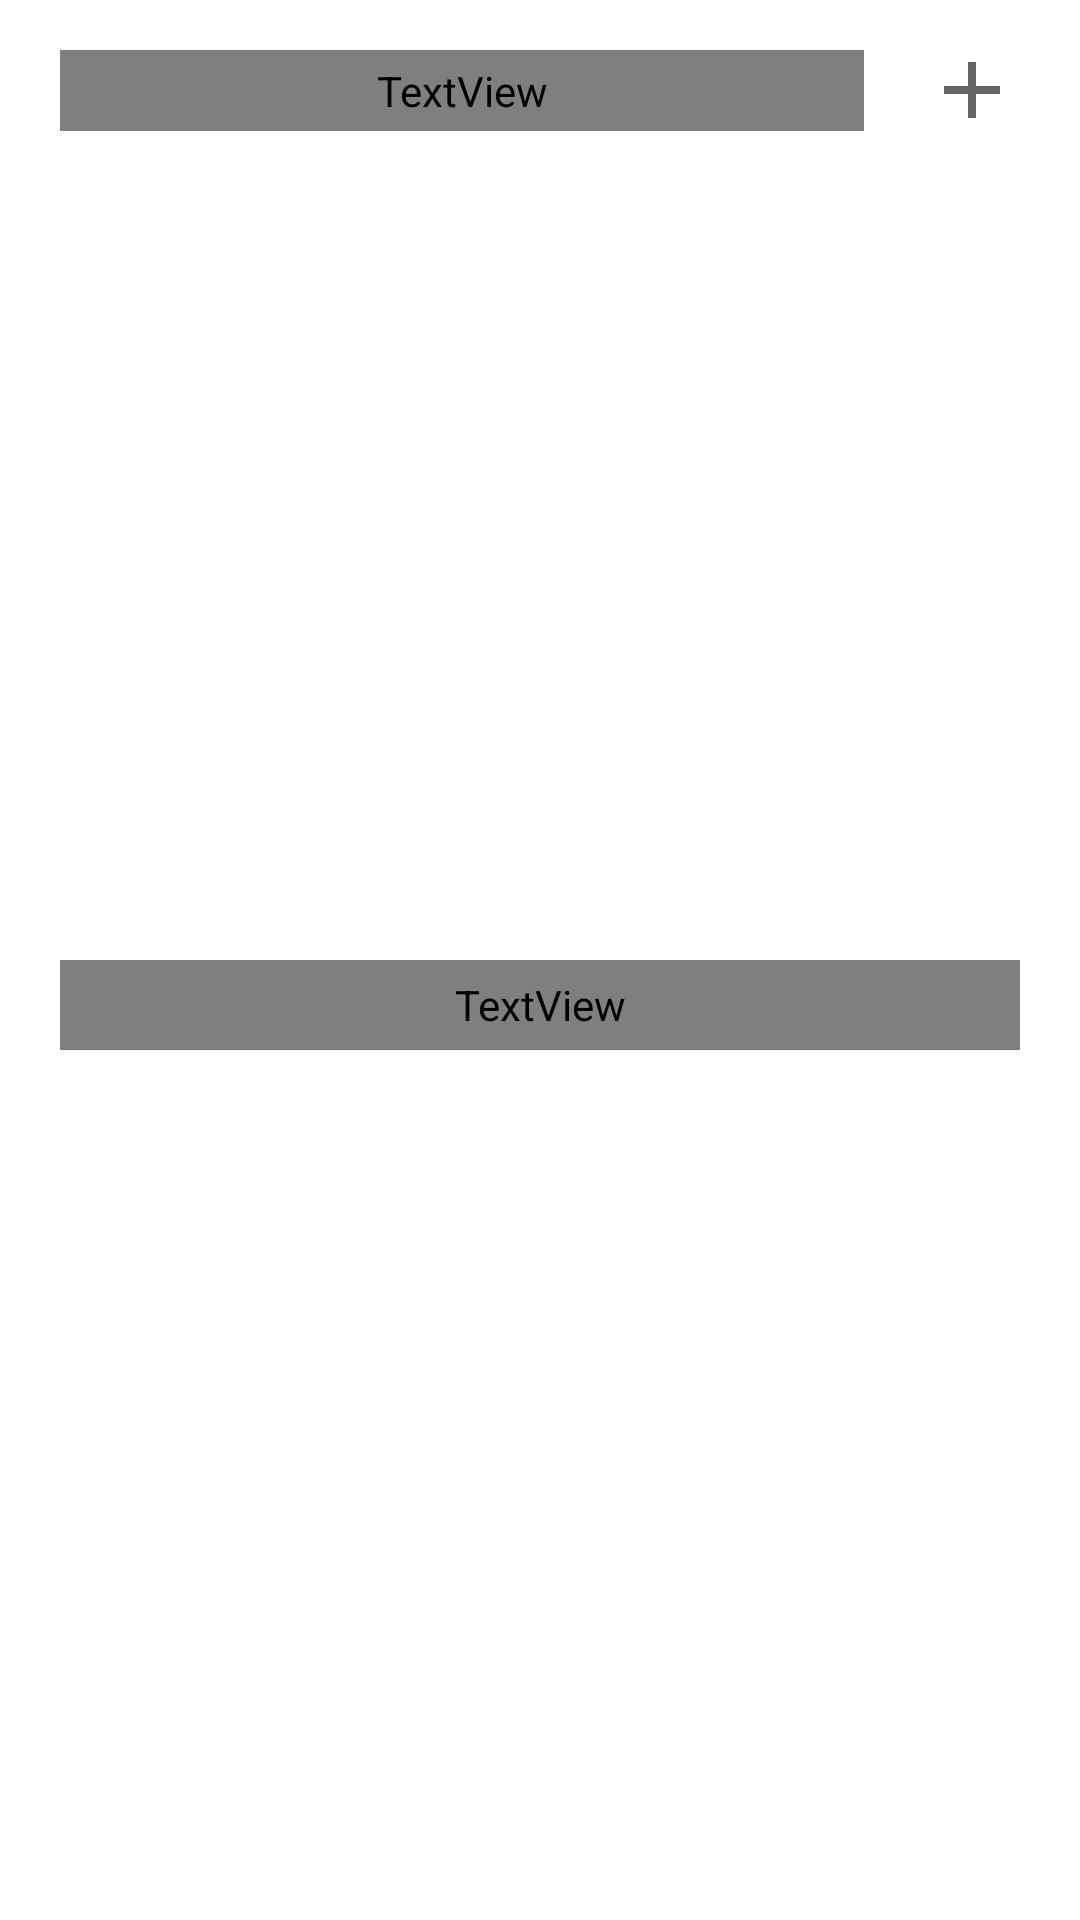

Icons on this 1080px x 1920px Android screen, each with its box as (x1, y1, x2, y2):
add: (944, 62, 1000, 118)
